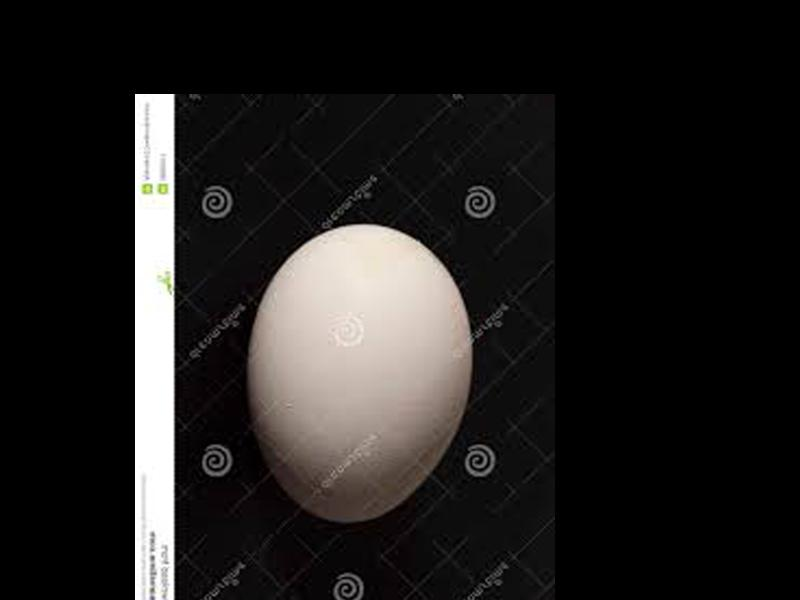Eggs: (247, 221, 471, 523)
